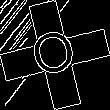O_S: (28, 25, 82, 85)
